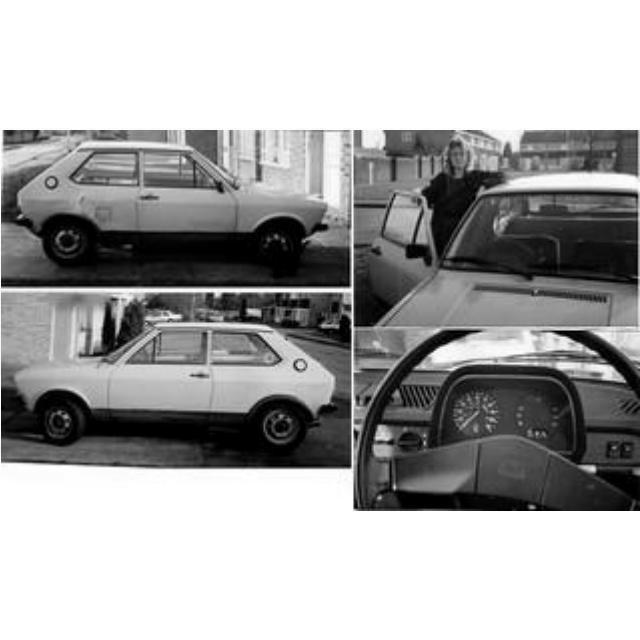doorouter-dent: (62, 181, 130, 235)
